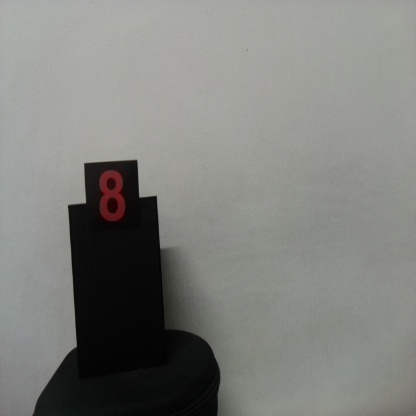id_8: (84, 164, 140, 242)
